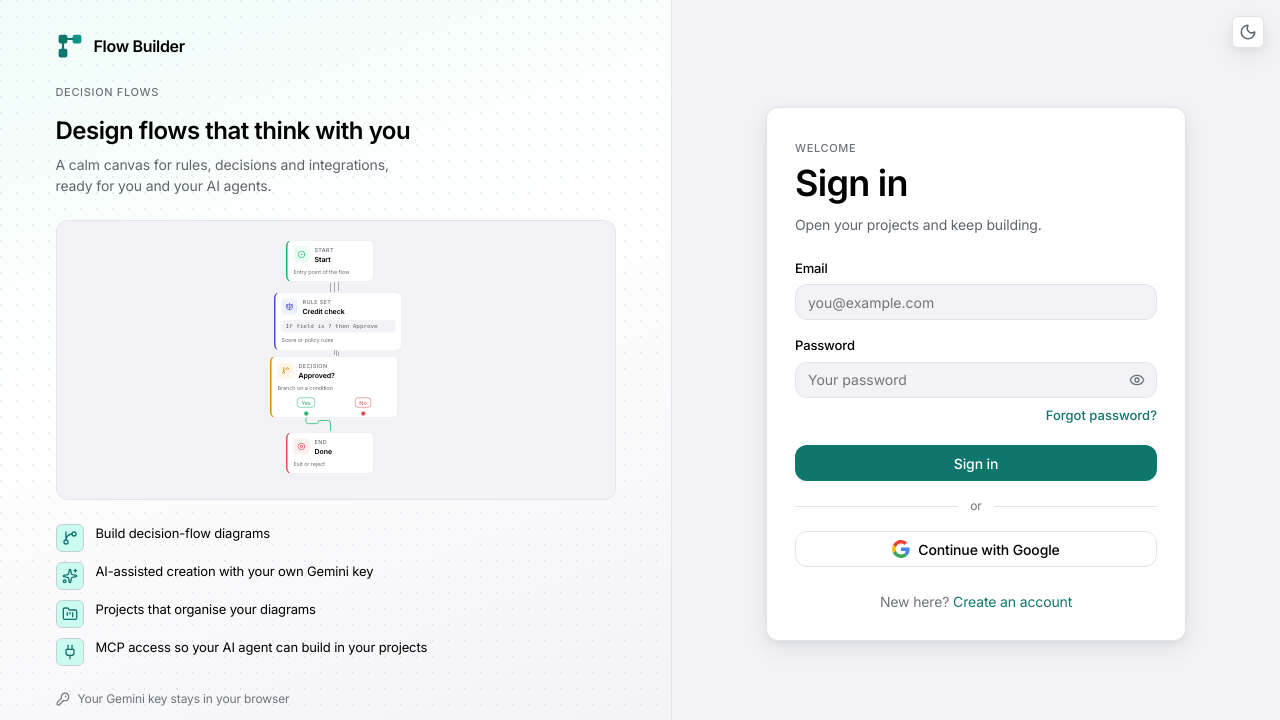
Test: LoginPage › shows a friendly error when sign in fails
The width and height of the screenshot is (1280, 720).
Type "demo@example.com" into the field labelled "Email". click: (976, 302)
box: [795,284,1157,320]
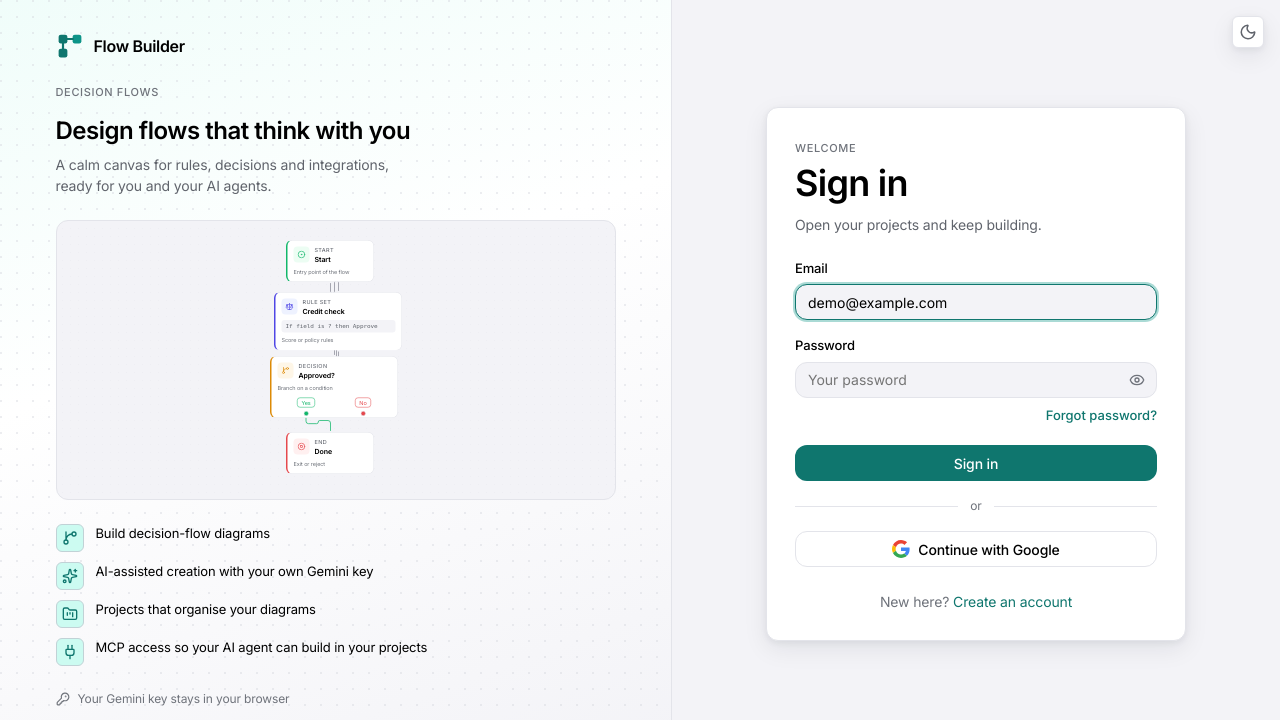
Type "bad" into the password field labelled "Password". click: (976, 380)
box: [795,362,1157,398]
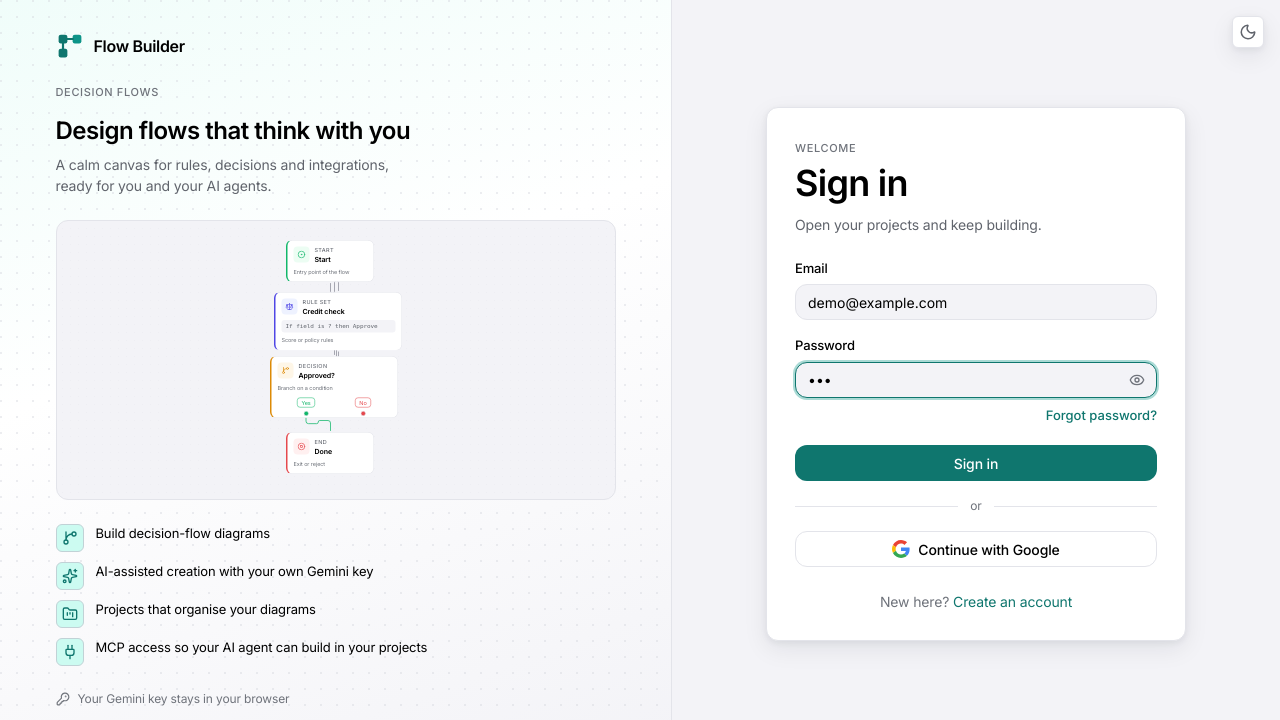
Click the button "Sign in". click: click(976, 464)
box: [795,446,1157,482]
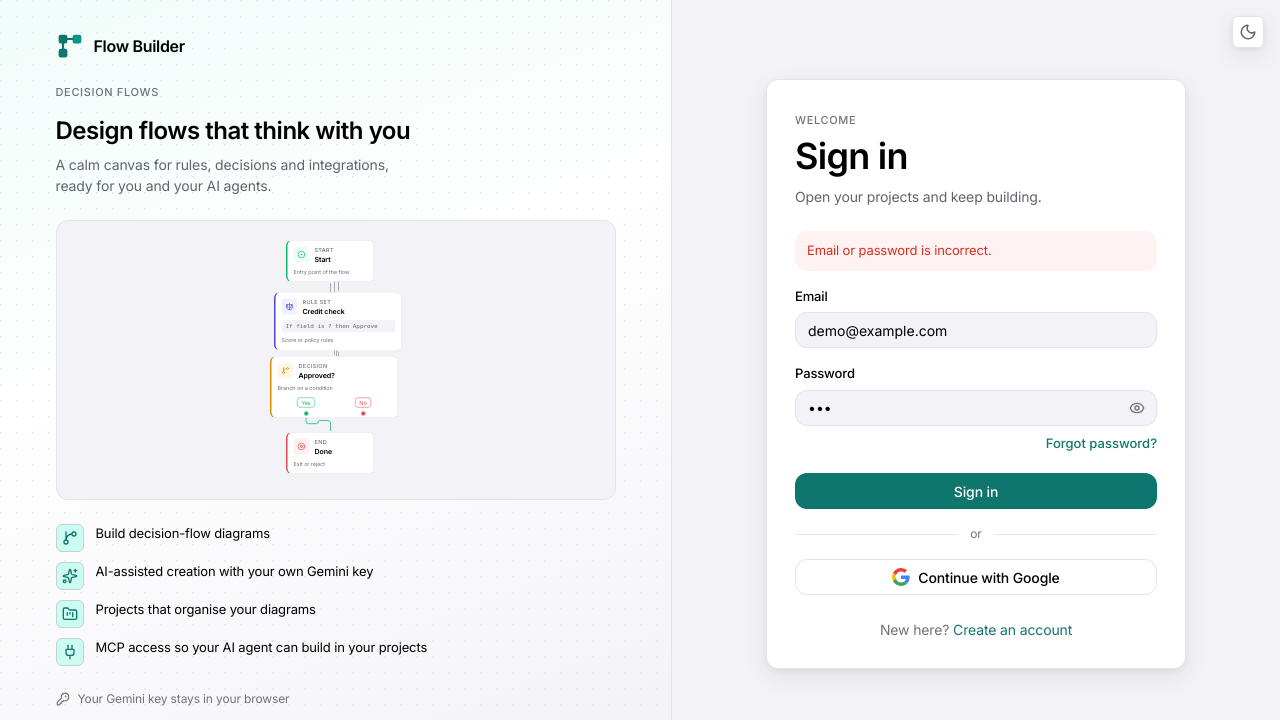
Expected: the message shows "incorrect", [807,242,992,258]
